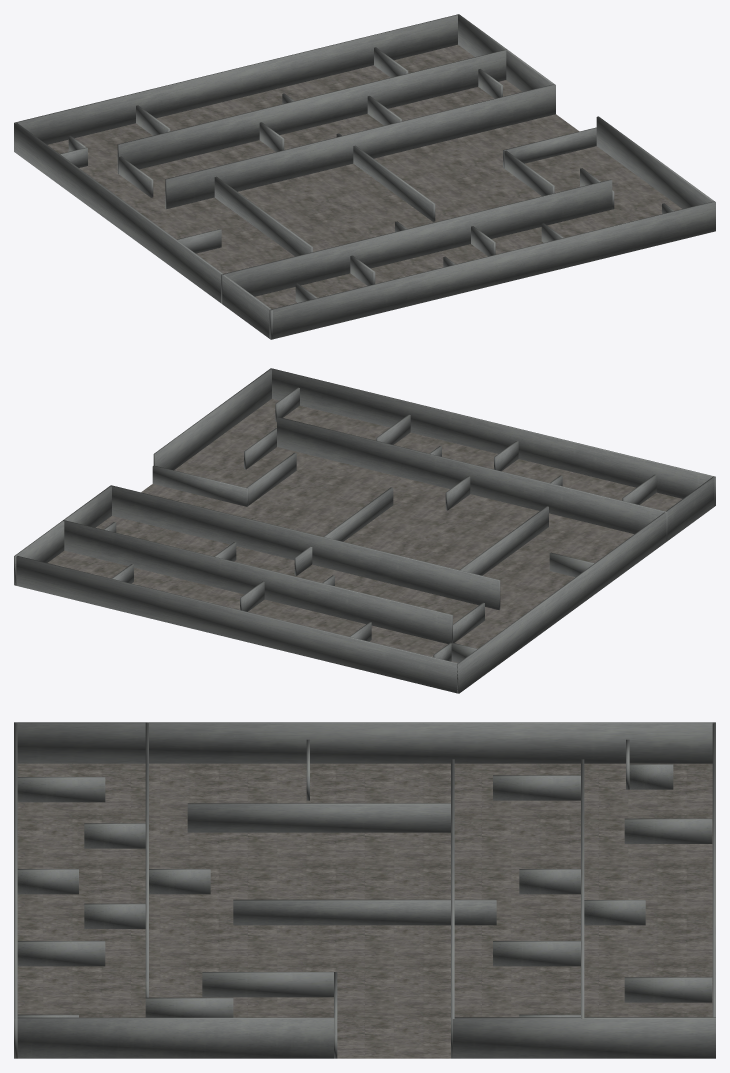
The model's file is Free+Brutalist+Automotive+3D+Scene+v01-compressed.glb.
3 views of the same model, one above another, from view 1: azimuth 30°, elevation 25°; view 2: azimuth 150°, elevation 25°; view 3: azimuth 270°, elevation 25° (orthographic). The views are drawn at different scales.
Visible parts, largest first — view 1: ENV_Ground, ENV_Wall_24, ENV_Wall_23, ENV_Wall_01, ENV_Wall_10, ENV_Wall_11, ENV_Wall_25, ENV_Wall_13, ENV_Wall_12, ENV_Wall_14, ENV_Wall_02, ENV_Wall_03 (+6 smaller); view 2: ENV_Ground, ENV_Wall_23, ENV_Wall_24, ENV_Wall_10, ENV_Wall_01, ENV_Wall_11, ENV_Wall_25, ENV_Wall_13, ENV_Wall_14, ENV_Wall_03, ENV_Wall_12, ENV_Wall_02 (+7 smaller); view 3: ENV_Ground, ENV_Wall_25, ENV_Wall_13, ENV_Wall_14, ENV_Wall_12, ENV_Wall_02, ENV_Wall_04, ENV_Wall_28, ENV_Wall_16, ENV_Wall_18, ENV_Wall_26, ENV_Wall_06 (+14 smaller).
Part boxes in pixels (x1,y1,x2,y2): ENV_Ground: [48, 44, 681, 308]; ENV_Wall_24: [269, 201, 715, 339]; ENV_Wall_23: [14, 14, 457, 144]; ENV_Wall_01: [165, 84, 555, 208]; ENV_Wall_10: [117, 49, 507, 173]; ENV_Wall_11: [221, 179, 612, 304]; ENV_Wall_25: [14, 122, 272, 339]; ENV_Wall_13: [596, 116, 714, 208]; ENV_Wall_12: [214, 176, 312, 256]; ENV_Wall_14: [457, 14, 554, 91]; ENV_Wall_02: [336, 133, 435, 221]; ENV_Wall_03: [503, 127, 596, 168]; ENV_Ground: [48, 399, 681, 662]; ENV_Wall_23: [15, 556, 459, 693]; ENV_Wall_24: [270, 368, 715, 506]; ENV_Wall_10: [62, 520, 452, 643]; ENV_Wall_01: [110, 485, 500, 609]; ENV_Wall_11: [277, 417, 667, 541]; ENV_Wall_25: [457, 476, 715, 693]; ENV_Wall_13: [153, 369, 271, 470]; ENV_Wall_14: [14, 486, 111, 585]; ENV_Wall_03: [152, 465, 248, 506]; ENV_Wall_12: [459, 506, 548, 575]; ENV_Wall_02: [294, 487, 393, 575]; ENV_Ground: [17, 763, 712, 1058]; ENV_Wall_25: [15, 722, 713, 763]; ENV_Wall_13: [17, 1017, 334, 1058]; ENV_Wall_14: [452, 1017, 715, 1058]; ENV_Wall_12: [187, 803, 450, 832]; ENV_Wall_02: [233, 899, 496, 925]; ENV_Wall_04: [202, 972, 333, 997]; ENV_Wall_28: [624, 977, 712, 1002]; ENV_Wall_16: [17, 777, 105, 802]; ENV_Wall_18: [17, 941, 105, 966]; ENV_Wall_26: [624, 818, 712, 843]; ENV_Wall_06: [493, 941, 580, 966].
Bounding box in the file's own units: 80 × 5.01 × 80.
Materials: 2 (2 with a texture image).
